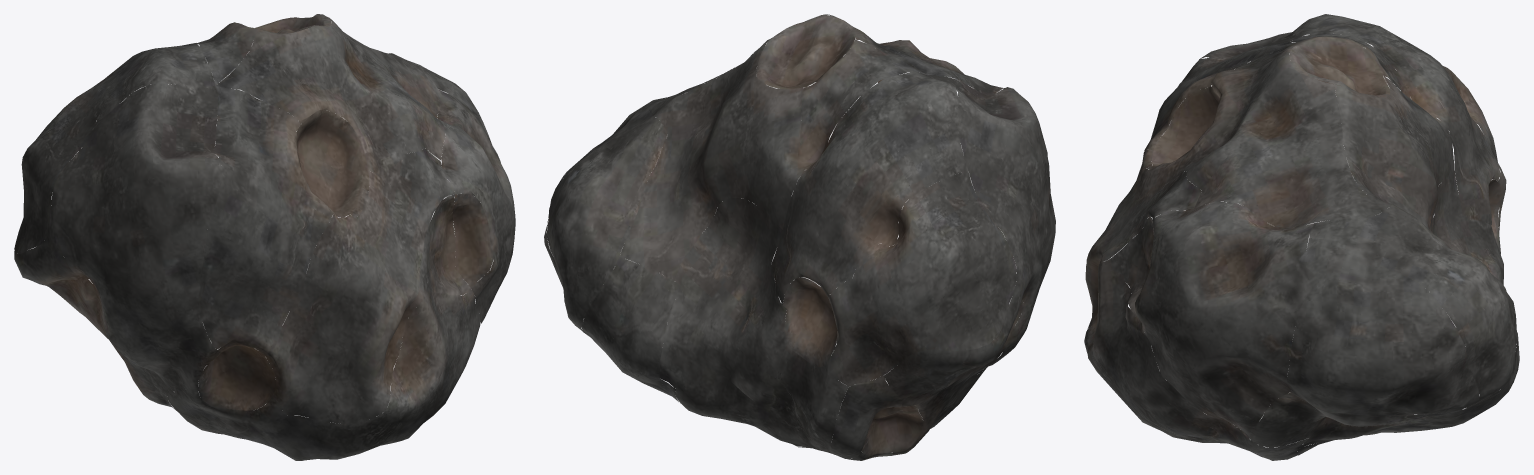
File: asteroidemediano.glb
3 renders of one model, left to right at view 1: azimuth 30°, elevation 25°; view 2: azimuth 150°, elevation 25°; view 3: azimuth 270°, elevation 25°, orthographic.
Visible parts, largest first — view 1: asteroidemediano_Web; view 2: asteroidemediano_Web; view 3: asteroidemediano_Web.
Boxes of the visible parts, left/top/right/bottom form: asteroidemediano_Web: left=14, top=14, right=515, bottom=460; asteroidemediano_Web: left=544, top=14, right=1055, bottom=460; asteroidemediano_Web: left=1084, top=14, right=1519, bottom=460.
Bounding box in the file's own units: 2.04 × 1.72 × 1.73.
Materials: 1 (1 with a texture image).
